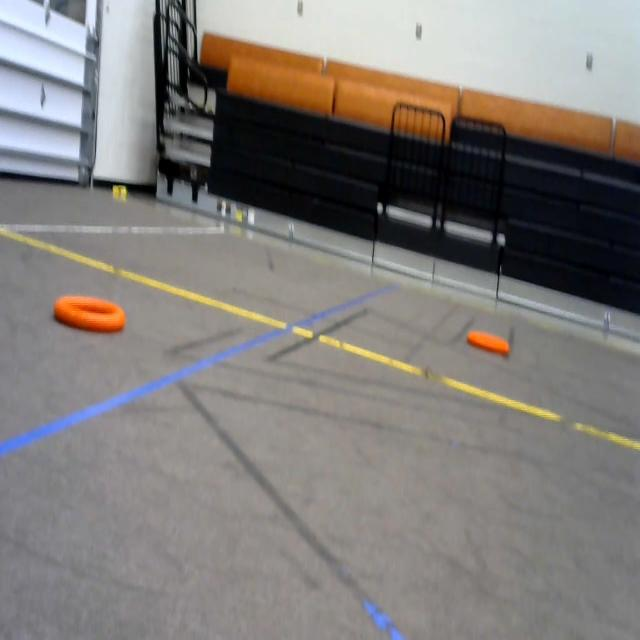note: (51, 288, 130, 341), (464, 321, 521, 360)
